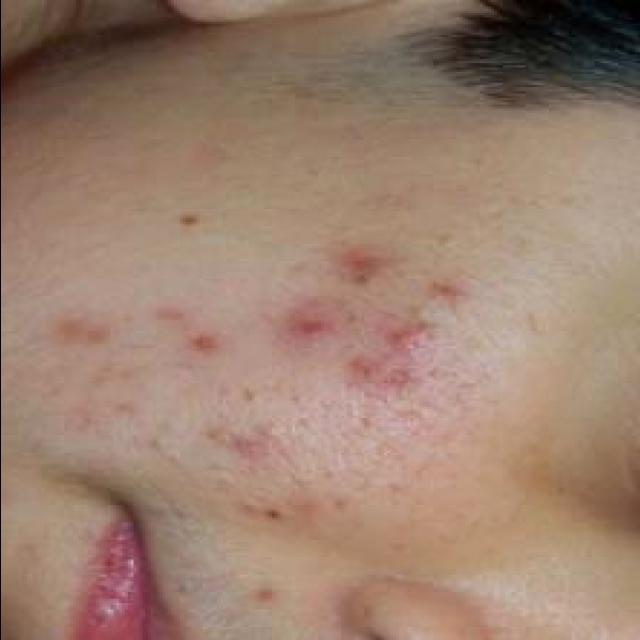Acne: (351, 324, 433, 402), (286, 300, 338, 346), (423, 278, 475, 310), (228, 436, 280, 466), (184, 330, 228, 356)
